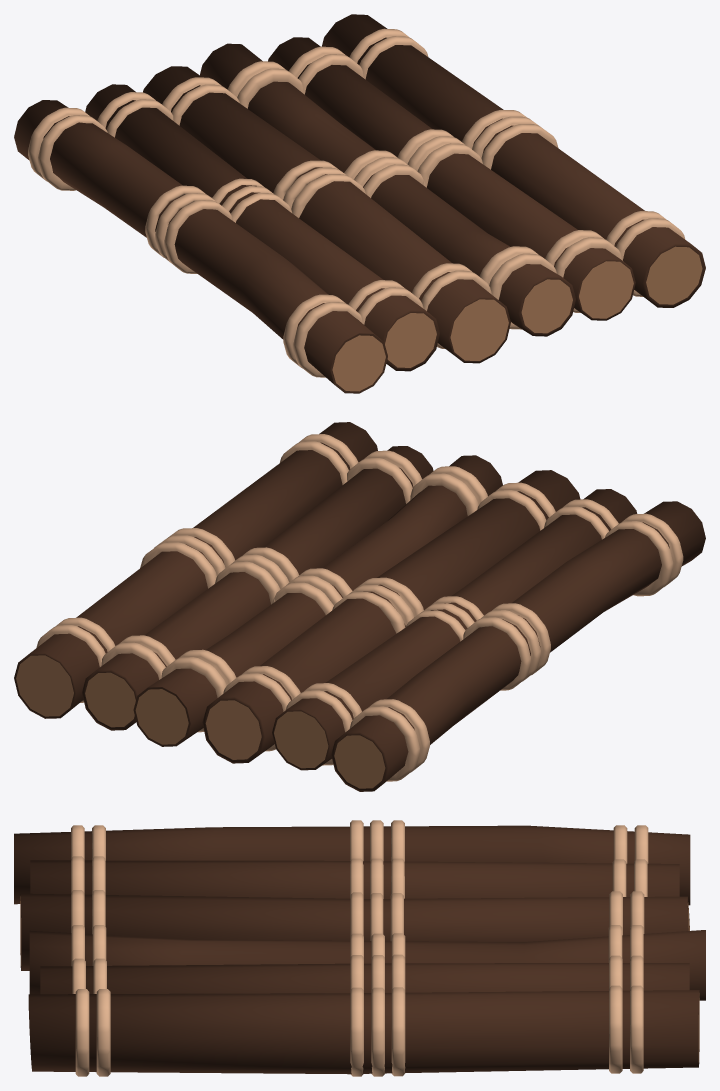
The model's file is Base_Raft.fbx.
3 renders of one model, top to bottom at view 1: azimuth 30°, elevation 25°; view 2: azimuth 150°, elevation 25°; view 3: azimuth 270°, elevation 25°, orthographic. The views are drawn at different scales.
Parts seen in each view (by area): view 1: Base; view 2: Base; view 3: Base.
Boxes of the visible parts, bbox=[...] form: Base: bbox=[14, 14, 705, 393]; Base: bbox=[14, 422, 705, 791]; Base: bbox=[14, 820, 705, 1076].
Bounding box in the file's own units: 797 × 159 × 1141.
